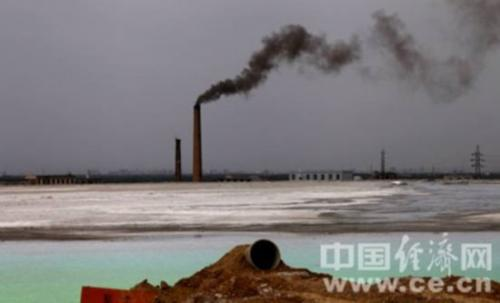smoke: (195, 22, 375, 104)
